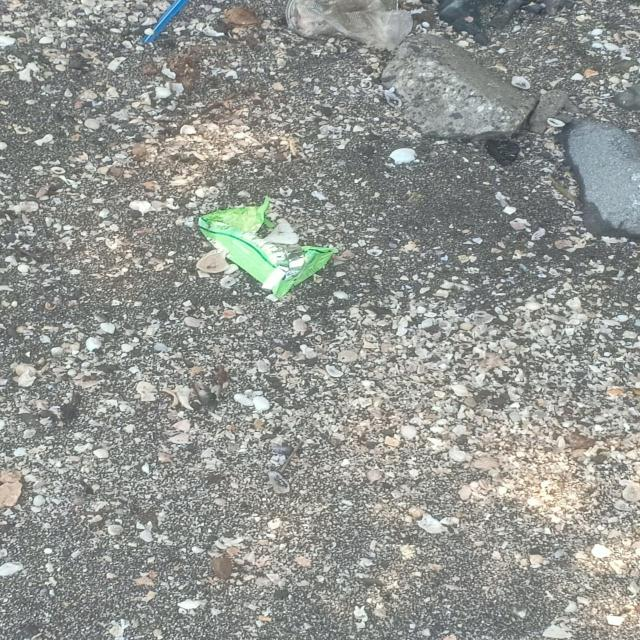plastic_waste: (199, 207, 340, 300)
